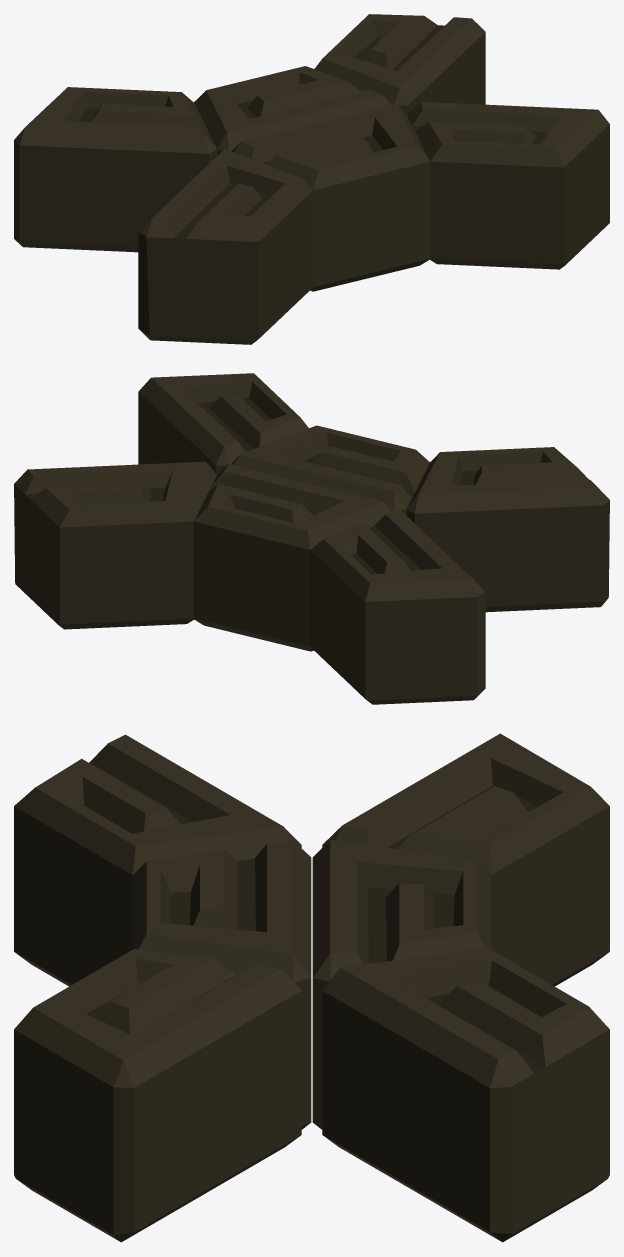
Rendered from ENV_Stone_SkyShip_Obstacle_02.fbx.
3 renders of one model, top to bottom at view 1: azimuth 30°, elevation 25°; view 2: azimuth 150°, elevation 25°; view 3: azimuth 270°, elevation 25°, orthographic. The views are drawn at different scales.
Visible parts, largest first — view 1: ENV_Stone_SkyShip_Obstacle_02; view 2: ENV_Stone_SkyShip_Obstacle_02; view 3: ENV_Stone_SkyShip_Obstacle_02.
Part boxes in pixels (x1,y1,x2,y2): ENV_Stone_SkyShip_Obstacle_02: [14, 14, 609, 344]; ENV_Stone_SkyShip_Obstacle_02: [14, 373, 609, 704]; ENV_Stone_SkyShip_Obstacle_02: [14, 733, 609, 1242].
Size of the model in its own units: 64.46 by 15.94 by 47.65.
